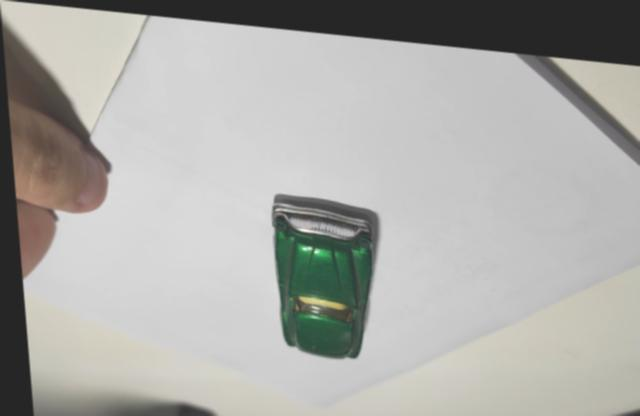06_MASERATI: (268, 189, 377, 352)
